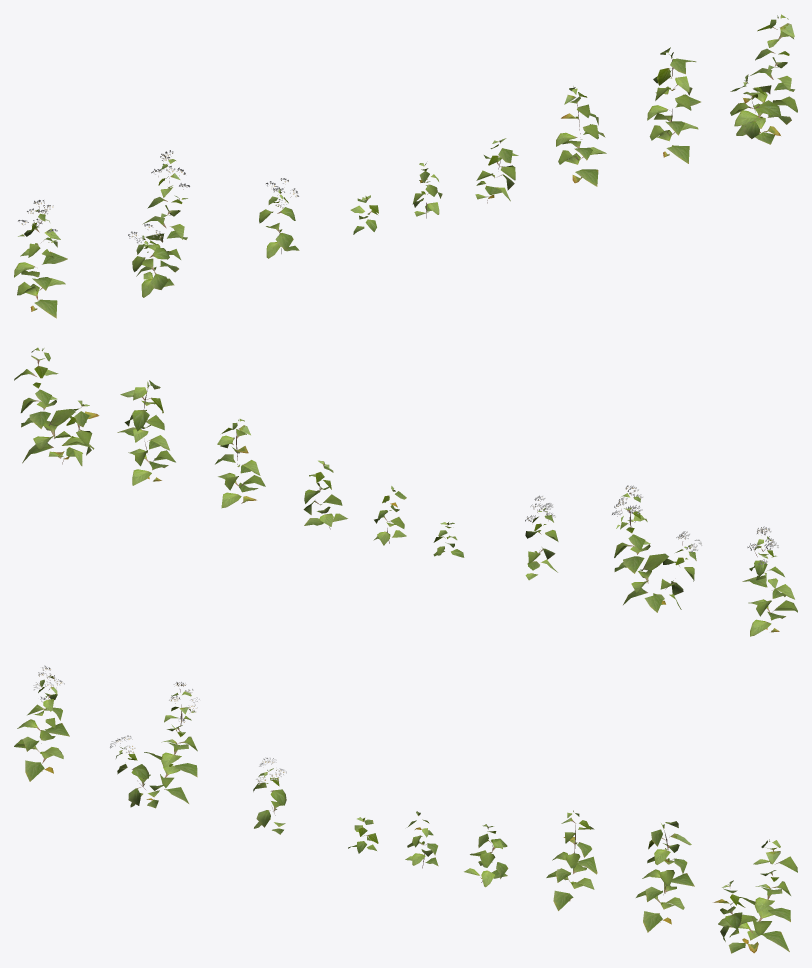
The model's file is shrub_01.glb.
3 views of the same model, one above another, from view 1: azimuth 30°, elevation 25°; view 2: azimuth 150°, elevation 25°; view 3: azimuth 330°, elevation 25° (orthographic). The views are drawn at different scales.
Visible parts, largest first — view 1: shrub_01; view 2: shrub_01; view 3: shrub_01.
Part boxes in pixels (bbox=[...]): shrub_01: bbox=[14, 14, 797, 318]; shrub_01: bbox=[14, 347, 797, 636]; shrub_01: bbox=[14, 665, 797, 953].
Size of the model in its own units: 7.11 by 1.1 by 0.6101.
1 material, 1 textured.
